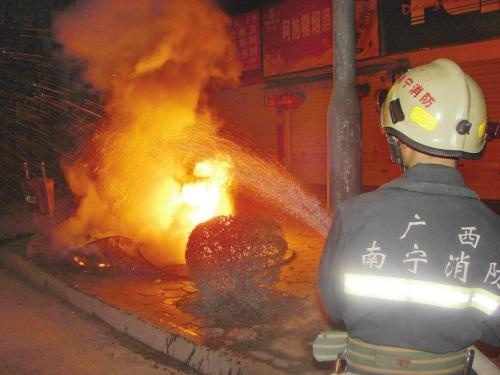fire: (145, 146, 236, 266)
